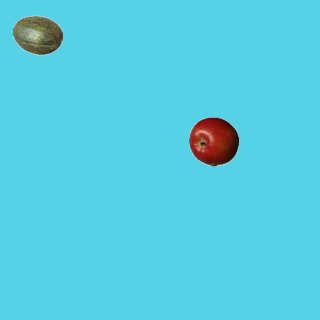Apple Braeburn: (188, 116, 238, 166)
Melon Piel de Sapo: (12, 10, 62, 60)
